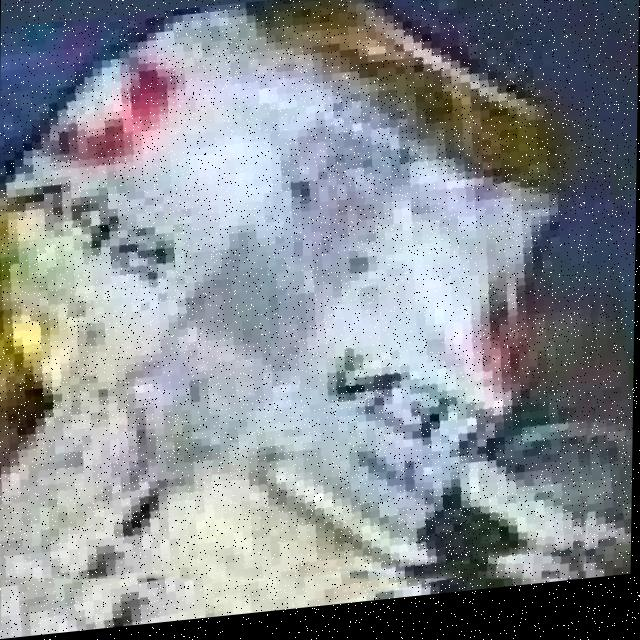litter: (0, 0, 600, 592)
